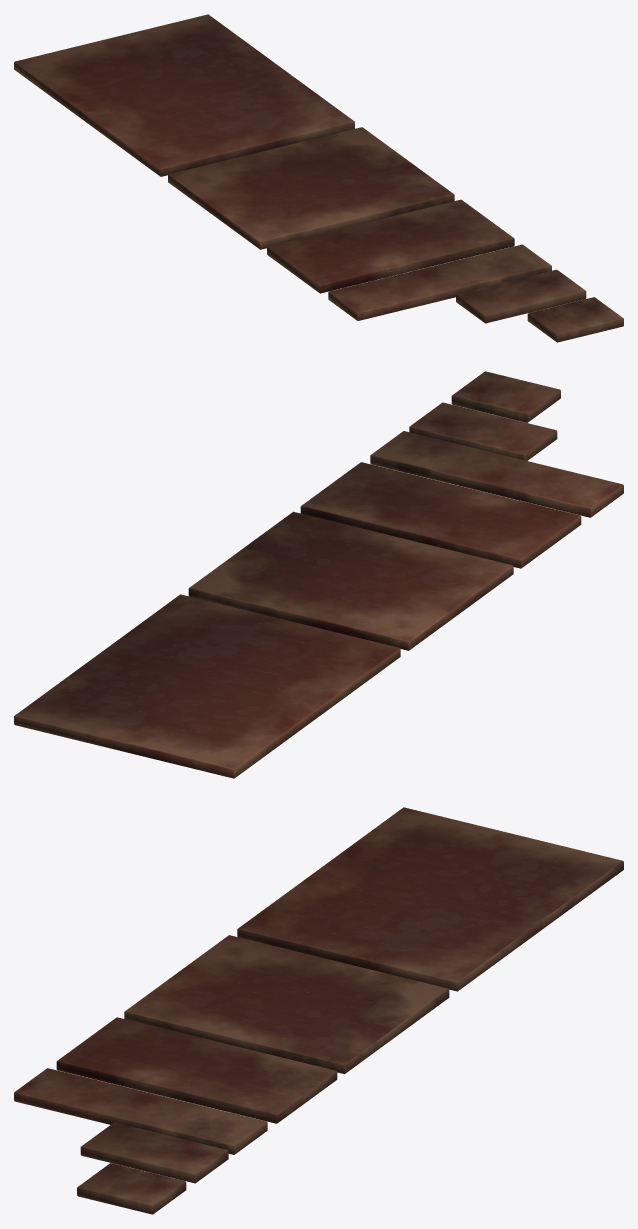
Rendered from Wooden_Ground.fbx.
3 views of the same model, one above another, from view 1: azimuth 30°, elevation 25°; view 2: azimuth 150°, elevation 25°; view 3: azimuth 330°, elevation 25° (orthographic). The views are drawn at different scales.
Parts seen in each view (by area): view 1: Ground_2x2, Ground_1.5x2, Ground_1x2, Ground_0.5x2, Ground_1x1, Ground_1x0.5; view 2: Ground_2x2, Ground_1.5x2, Ground_1x2, Ground_0.5x2, Ground_1x1, Ground_1x0.5; view 3: Ground_2x2, Ground_1.5x2, Ground_1x2, Ground_0.5x2, Ground_1x1, Ground_1x0.5.
Boxes of the visible parts, x1,y1,x2,y2 form: Ground_2x2: (14,14,354,176); Ground_1.5x2: (168,127,454,249); Ground_1x2: (267,199,514,293); Ground_0.5x2: (328,244,551,320); Ground_1x1: (456,269,586,323); Ground_1x0.5: (527,297,623,342); Ground_2x2: (14,594,400,778); Ground_1.5x2: (188,511,513,650); Ground_1x2: (300,462,581,568); Ground_0.5x2: (370,431,623,517); Ground_1x1: (409,402,557,460); Ground_1x0.5: (451,371,560,422); Ground_2x2: (237,807,623,991); Ground_1.5x2: (124,935,449,1074); Ground_1x2: (56,1017,337,1123); Ground_0.5x2: (14,1068,267,1154); Ground_1x1: (80,1122,228,1183); Ground_1x0.5: (77,1163,186,1214).
Bounding box in the file's own units: 325 × 13.66 × 1201.
